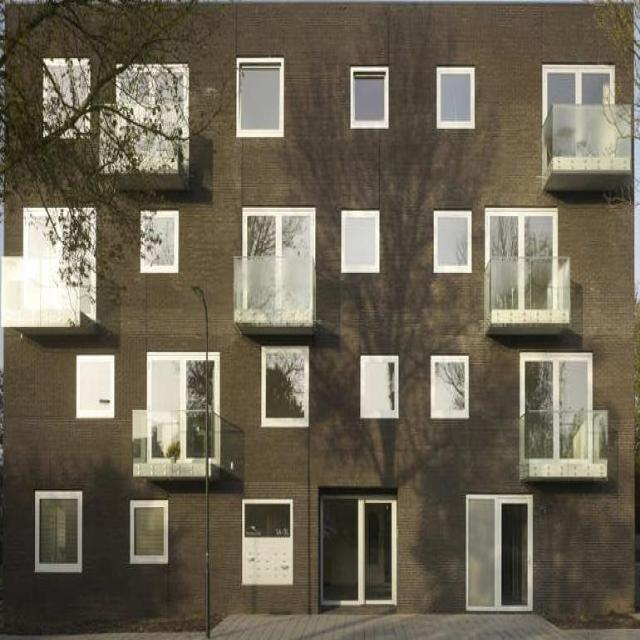Railing: (132, 409, 246, 483), (482, 254, 571, 327), (1, 256, 96, 324), (544, 104, 632, 170), (233, 255, 315, 319), (519, 408, 609, 465)
door: (320, 500, 392, 604), (466, 497, 529, 607)
plant: (0, 0, 240, 306)
wall: (1, 0, 634, 619)
windows: (118, 70, 183, 160), (256, 343, 306, 428), (518, 355, 592, 408), (146, 357, 220, 409), (23, 208, 96, 257), (37, 492, 80, 573), (486, 209, 558, 257), (240, 213, 316, 256), (237, 68, 281, 135), (434, 65, 473, 128), (431, 216, 470, 276), (545, 71, 612, 105), (342, 212, 378, 270), (362, 359, 397, 418), (431, 361, 466, 418), (353, 67, 386, 127), (142, 215, 176, 271), (76, 361, 112, 412), (130, 505, 162, 557), (243, 506, 289, 538)
